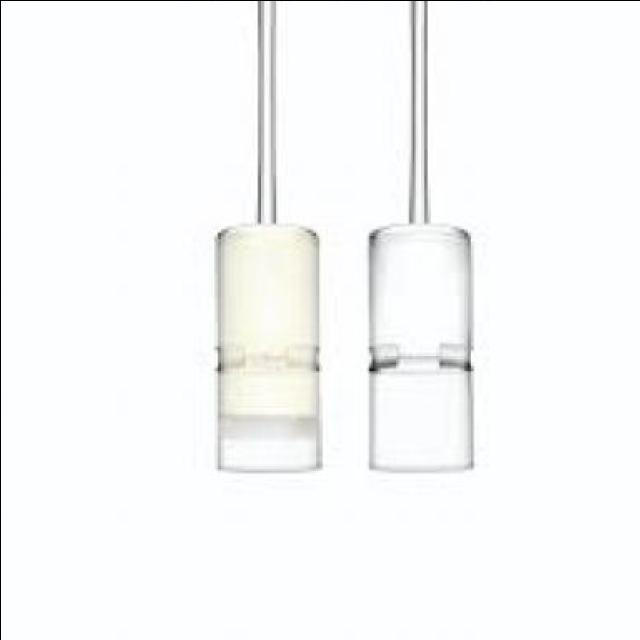kaca: (343, 0, 485, 475), (195, 0, 332, 475)
